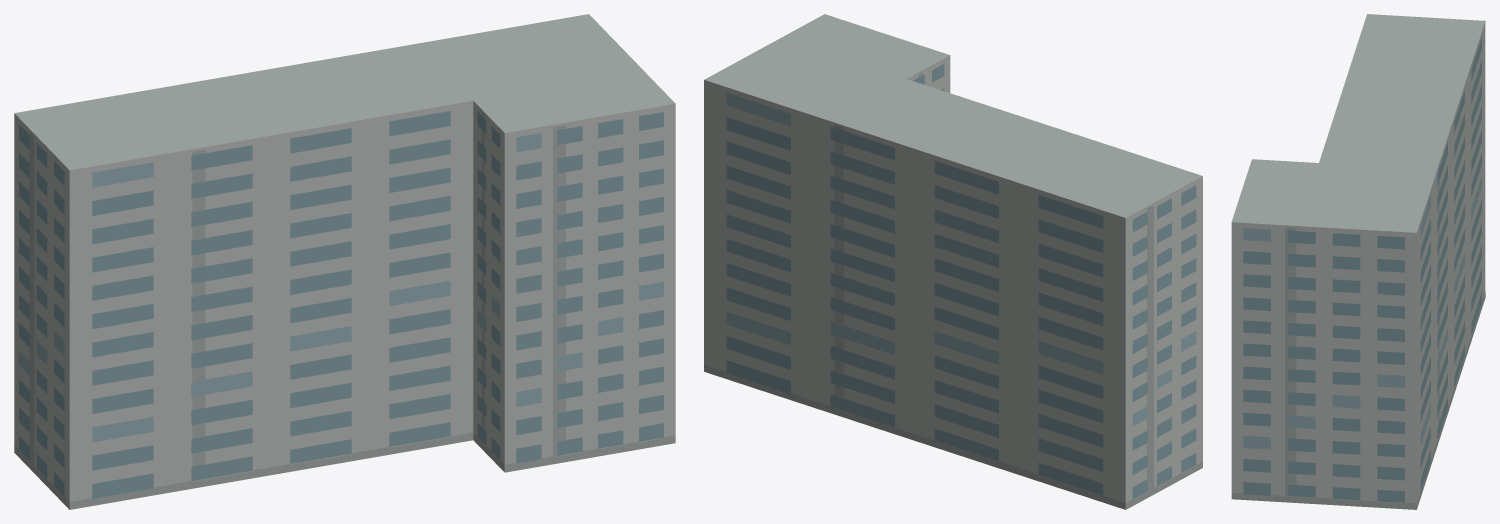
File: residential-c66be516-7f1f-4a1b-b1cc-5681fc1aa832.glb
The picture shows the model from 3 angles, left to right: view 1: azimuth 30°, elevation 25°; view 2: azimuth 150°, elevation 25°; view 3: azimuth 270°, elevation 25°; orthographic projection. The views are drawn at different scales.
Parts seen in each view (by area): view 1: residential-c66be516-7f1f-4a1b-b1cc-5681fc1aa832.tmp; view 2: residential-c66be516-7f1f-4a1b-b1cc-5681fc1aa832.tmp; view 3: residential-c66be516-7f1f-4a1b-b1cc-5681fc1aa832.tmp.
Boxes of the visible parts, x1,y1,x2,y2 form: residential-c66be516-7f1f-4a1b-b1cc-5681fc1aa832.tmp: (14, 14, 675, 509); residential-c66be516-7f1f-4a1b-b1cc-5681fc1aa832.tmp: (704, 14, 1202, 509); residential-c66be516-7f1f-4a1b-b1cc-5681fc1aa832.tmp: (1231, 14, 1485, 509).
Bounding box in the file's own units: 54.24 × 32 × 26.59.
